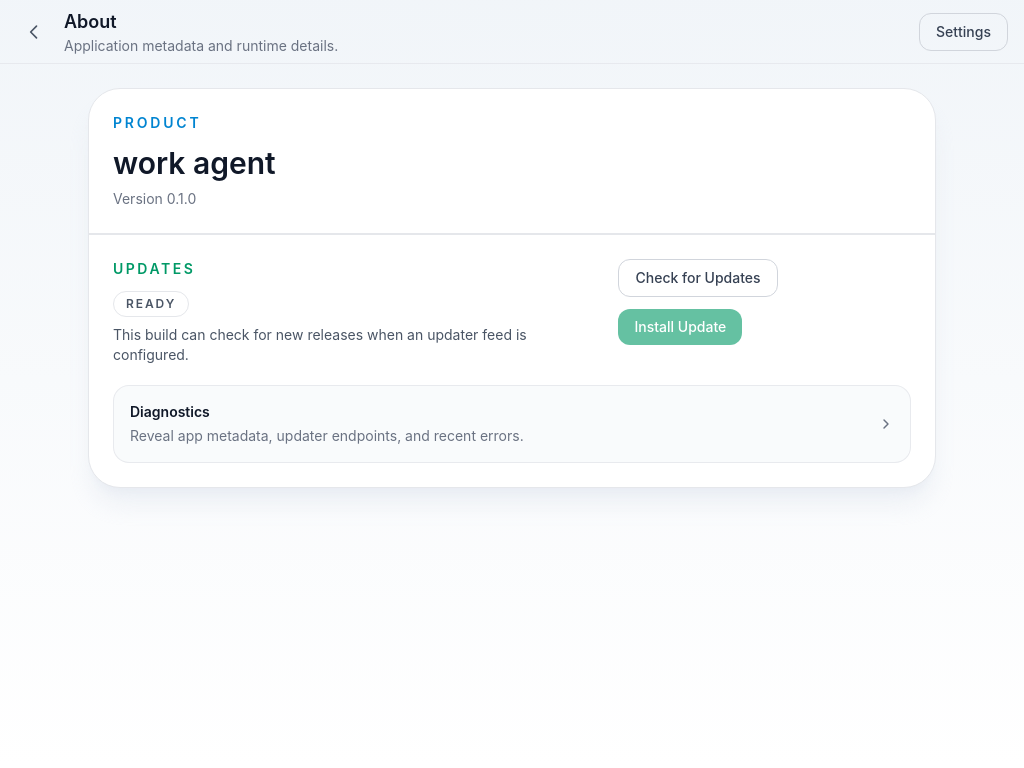
Test: AboutPage › shows a visible success state when the installed version is already current
The width and height of the screenshot is (1024, 768).
Expected: the text "This build can check for new releases when an updater feed is configured." is shown, [113,326,527,363]
Click the button "Check for Updates" at point(698, 278), box [618,259,778,297]
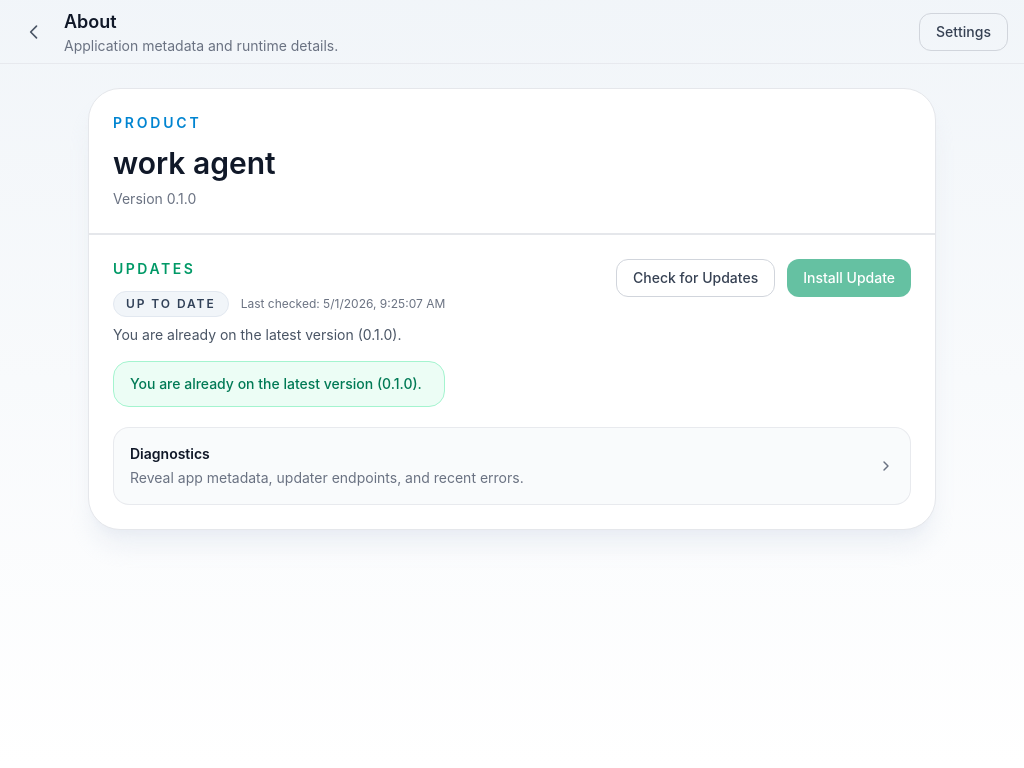
Now the text "You are already on the latest version (0.1.0)." is shown, box [113,325,445,345]
Now the text "Up to Date" is shown, box [113,291,229,317]
Now the text "Last checked: 5/1/2026, 9:25:07 AM" is shown, box [241,296,445,312]
